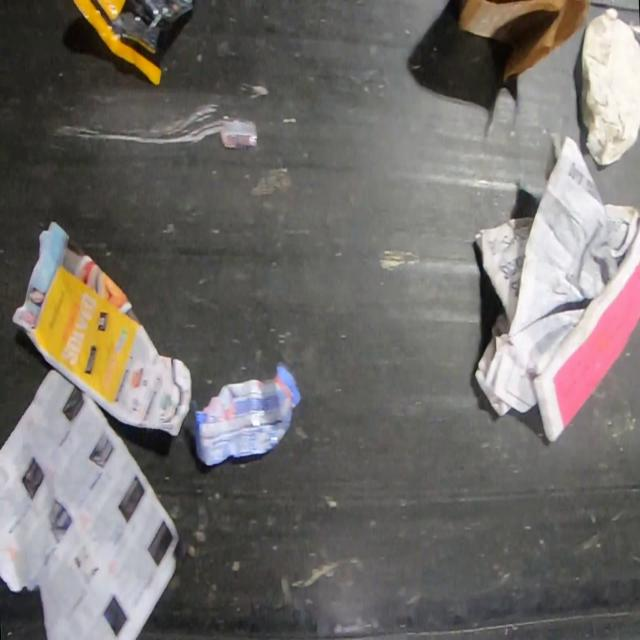cardboard: (10, 220, 194, 436), (458, 0, 592, 86)
soft_plastic: (183, 362, 304, 469), (72, 0, 196, 88)
